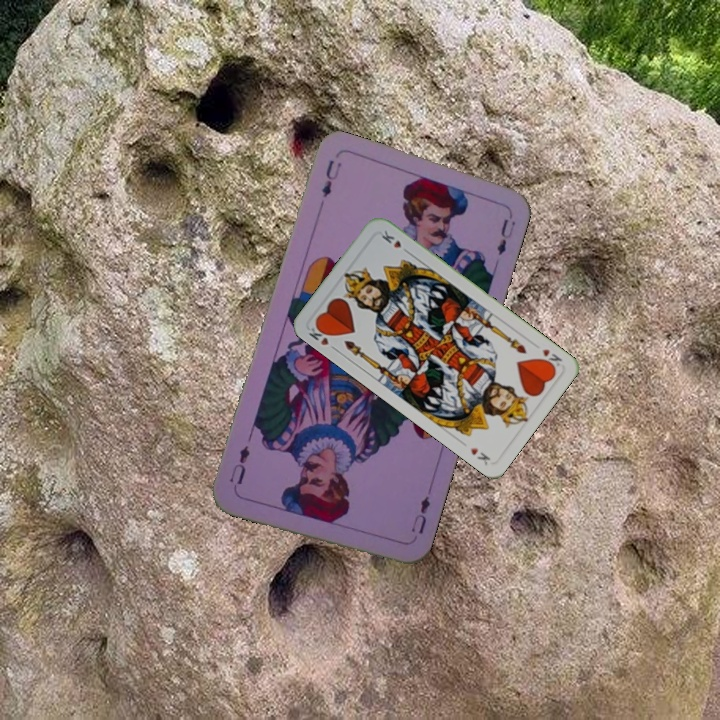EU: (407, 492, 433, 537), (317, 156, 343, 200)
HK: (305, 319, 340, 354), (537, 345, 565, 373)
